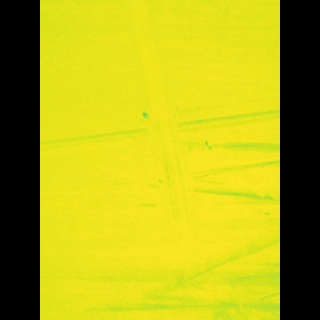Loch: (129, 0, 197, 284), (69, 228, 250, 319), (68, 88, 250, 163), (185, 274, 239, 319)
